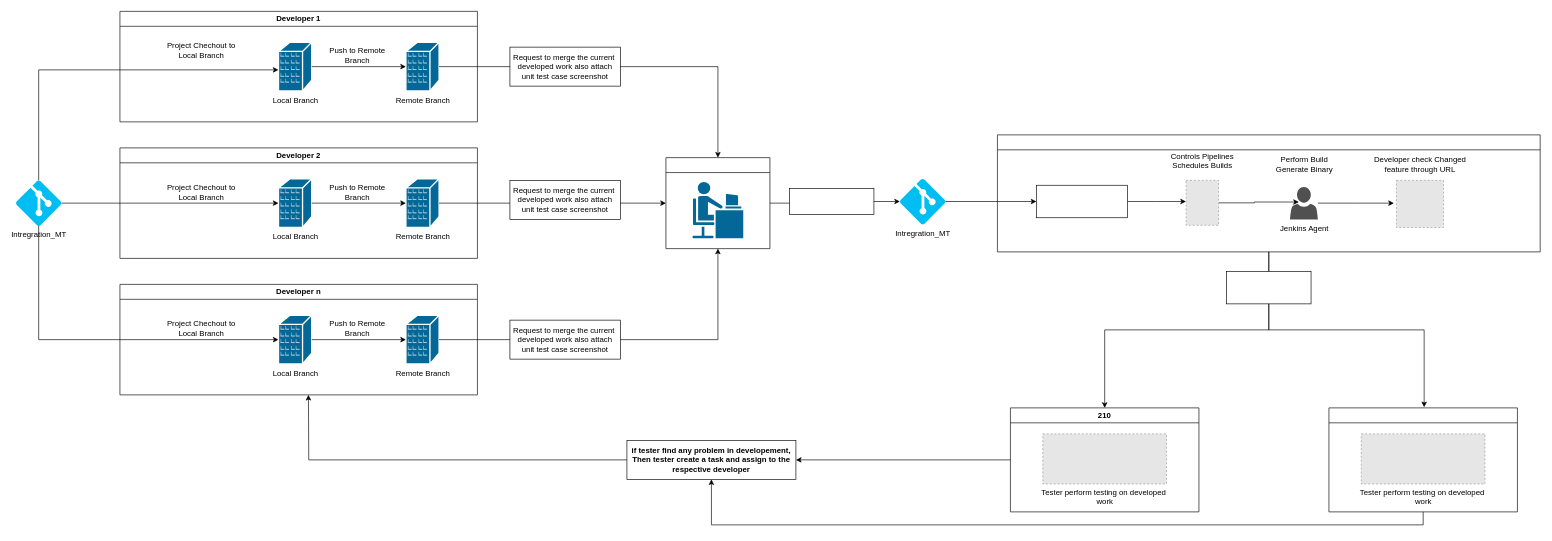
Some shapes in this 1552 by 541 pixel diagram are drawn without their labels. Grey dashed boxes stand in for pictures. Each missing label, with the box of its shape:
103 (VM1): (1328, 407, 1517, 512)
17 Machine: (997, 134, 1540, 252)
Chechout the merged work from Integration_MT: (1036, 185, 1127, 218)
Merge all developed work to Integration_MT: (789, 188, 874, 214)
Merger: (665, 157, 770, 249)
Send all chages and Binary to 210 and 103: (1226, 271, 1311, 304)
